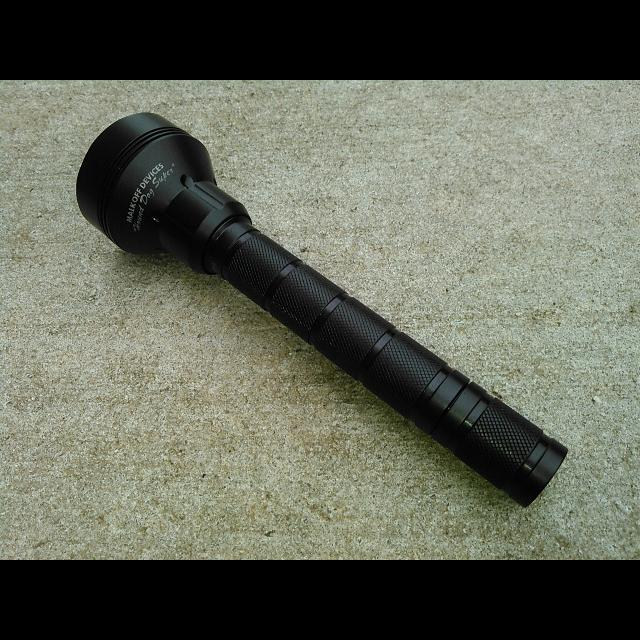Flashlight: (67, 102, 575, 516)
